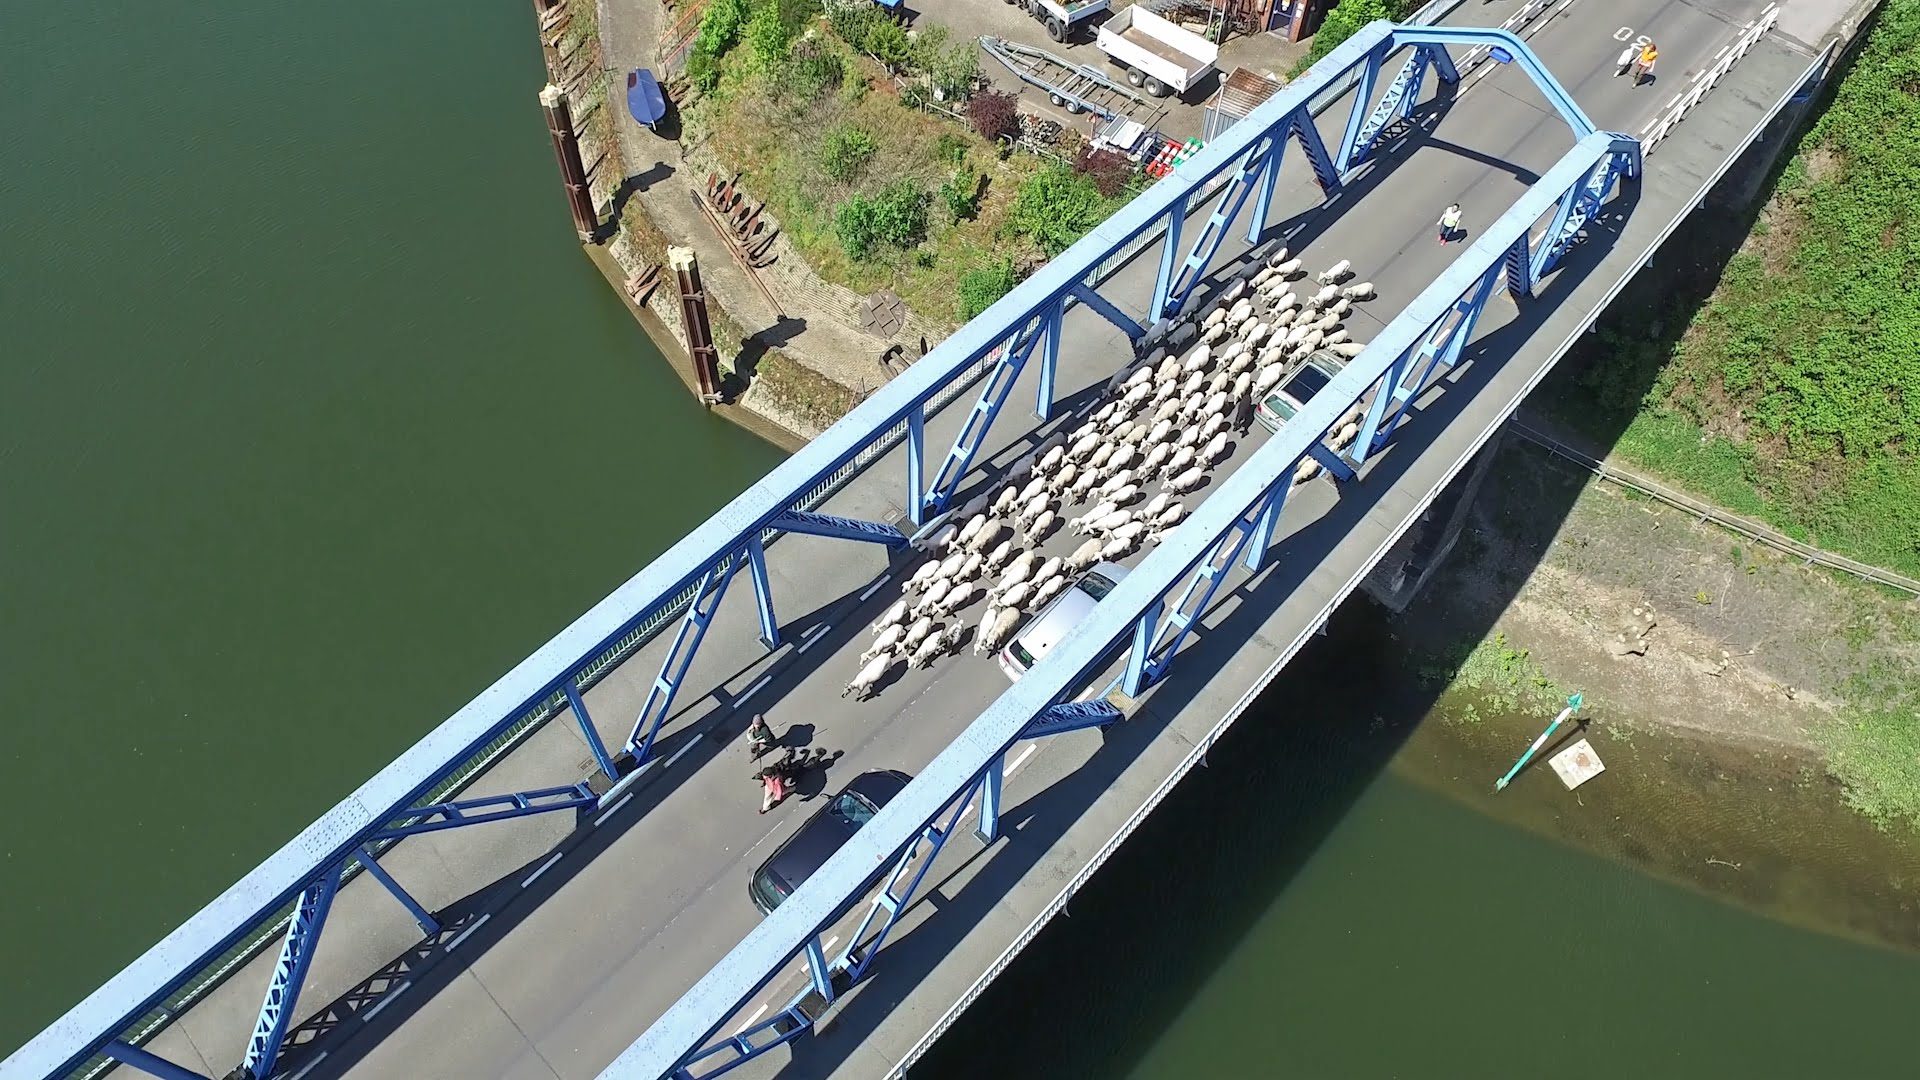sheep: (982, 560, 1034, 603), (844, 653, 890, 698), (910, 575, 952, 622), (906, 628, 945, 673), (986, 607, 1023, 654), (1080, 506, 1133, 539), (1007, 473, 1048, 516), (922, 551, 969, 587), (1063, 465, 1102, 506), (948, 510, 986, 553), (931, 582, 975, 618), (1021, 509, 1060, 549), (861, 624, 902, 661), (872, 595, 909, 636), (967, 516, 1004, 556), (1193, 429, 1229, 471), (901, 558, 939, 596), (1101, 442, 1139, 479), (1064, 535, 1105, 570), (1162, 464, 1205, 496), (1014, 493, 1051, 527), (1030, 443, 1067, 477), (1139, 436, 1171, 476), (992, 580, 1033, 611), (1114, 381, 1153, 413), (1095, 533, 1130, 566), (1253, 360, 1284, 397), (975, 607, 997, 655), (1098, 483, 1142, 508), (1258, 324, 1291, 357), (1048, 462, 1079, 497), (1150, 393, 1180, 429), (1149, 502, 1189, 529), (1197, 410, 1226, 447), (1120, 365, 1156, 394), (1317, 257, 1356, 284), (1142, 419, 1174, 451), (1178, 390, 1205, 426), (1183, 344, 1215, 375), (1195, 320, 1226, 349), (1342, 278, 1377, 305), (1180, 369, 1207, 401), (1228, 301, 1255, 328), (1229, 372, 1251, 405), (1273, 257, 1304, 278), (1270, 291, 1296, 316), (1247, 265, 1273, 287), (1323, 328, 1349, 348)
